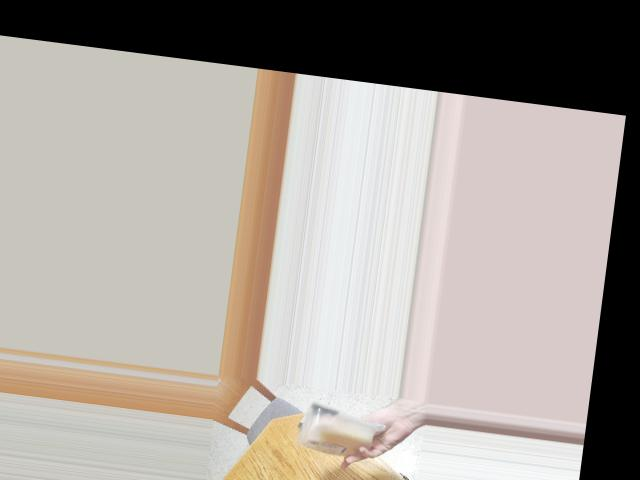cheese: (301, 407, 372, 458)
